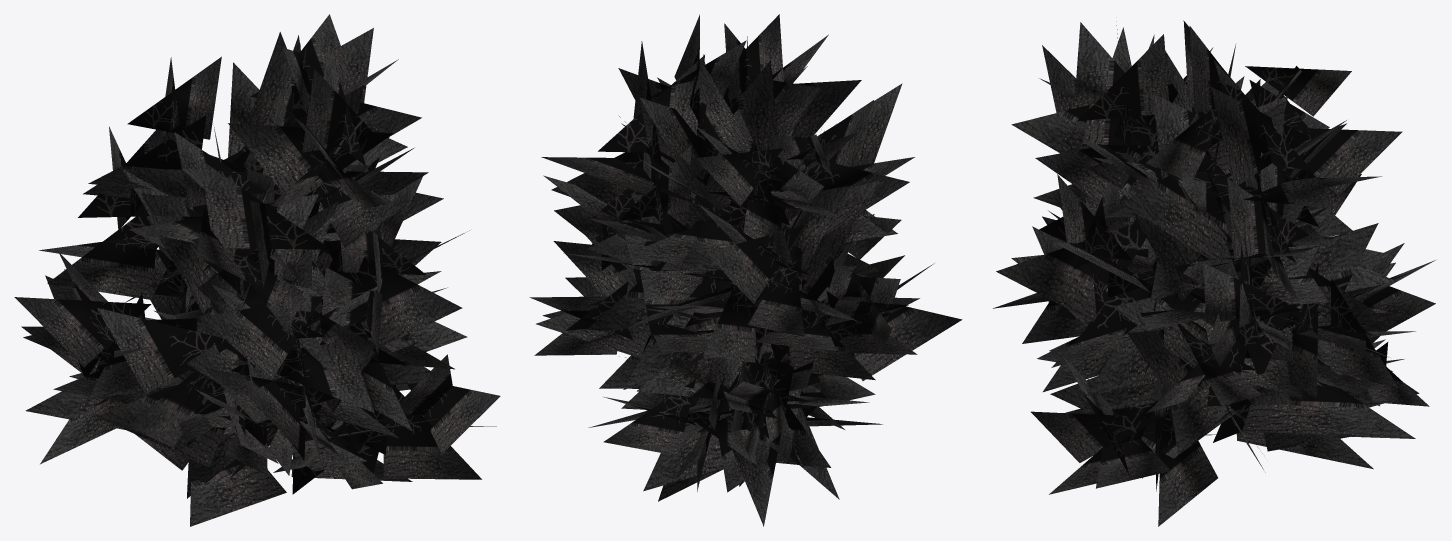
File: BUSH_Oak04_Test_1.fbx
3 renders of one model, left to right at view 1: azimuth 30°, elevation 25°; view 2: azimuth 150°, elevation 25°; view 3: azimuth 270°, elevation 25°, orthographic. The views are drawn at different scales.
Parts seen in each view (by area): view 1: BUSH_Oak04_Test; view 2: BUSH_Oak04_Test; view 3: BUSH_Oak04_Test.
Part boxes in pixels (x1=…): BUSH_Oak04_Test: x1=14, y1=14, x2=500, y2=526; BUSH_Oak04_Test: x1=529, y1=14, x2=962, y2=526; BUSH_Oak04_Test: x1=993, y1=20, x2=1435, y2=526.
Bounding box in the file's own units: 68887 × 78342 × 66153.
